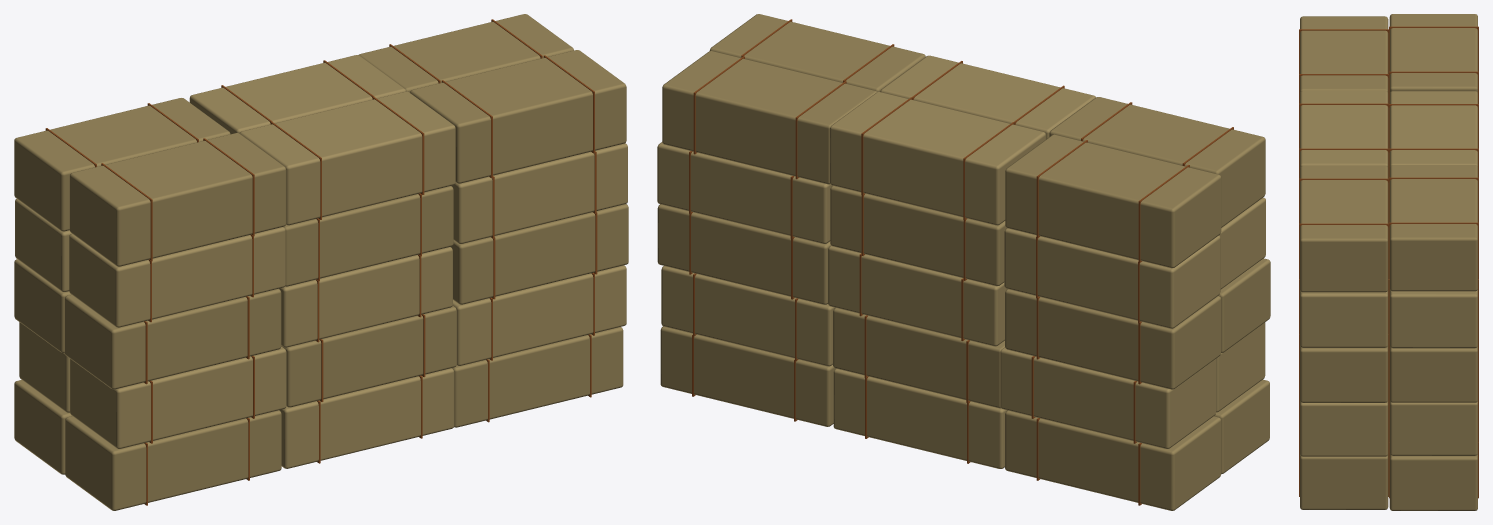
The model's file is SM_Prop_farm_bales_1.glb.
The picture shows the model from 3 angles, left to right: view 1: azimuth 30°, elevation 25°; view 2: azimuth 150°, elevation 25°; view 3: azimuth 270°, elevation 25°; orthographic projection. The views are drawn at different scales.
Visible parts, largest first — view 1: SM_Prop_farm_bales_1; view 2: SM_Prop_farm_bales_1; view 3: SM_Prop_farm_bales_1.
Part boxes in pixels (x1=…): SM_Prop_farm_bales_1: x1=14, y1=14, x2=628, y2=510; SM_Prop_farm_bales_1: x1=657, y1=14, x2=1270, y2=510; SM_Prop_farm_bales_1: x1=1299, y1=14, x2=1478, y2=510.
Bounding box in the file's own units: 7.32 × 4.11 × 2.44.
